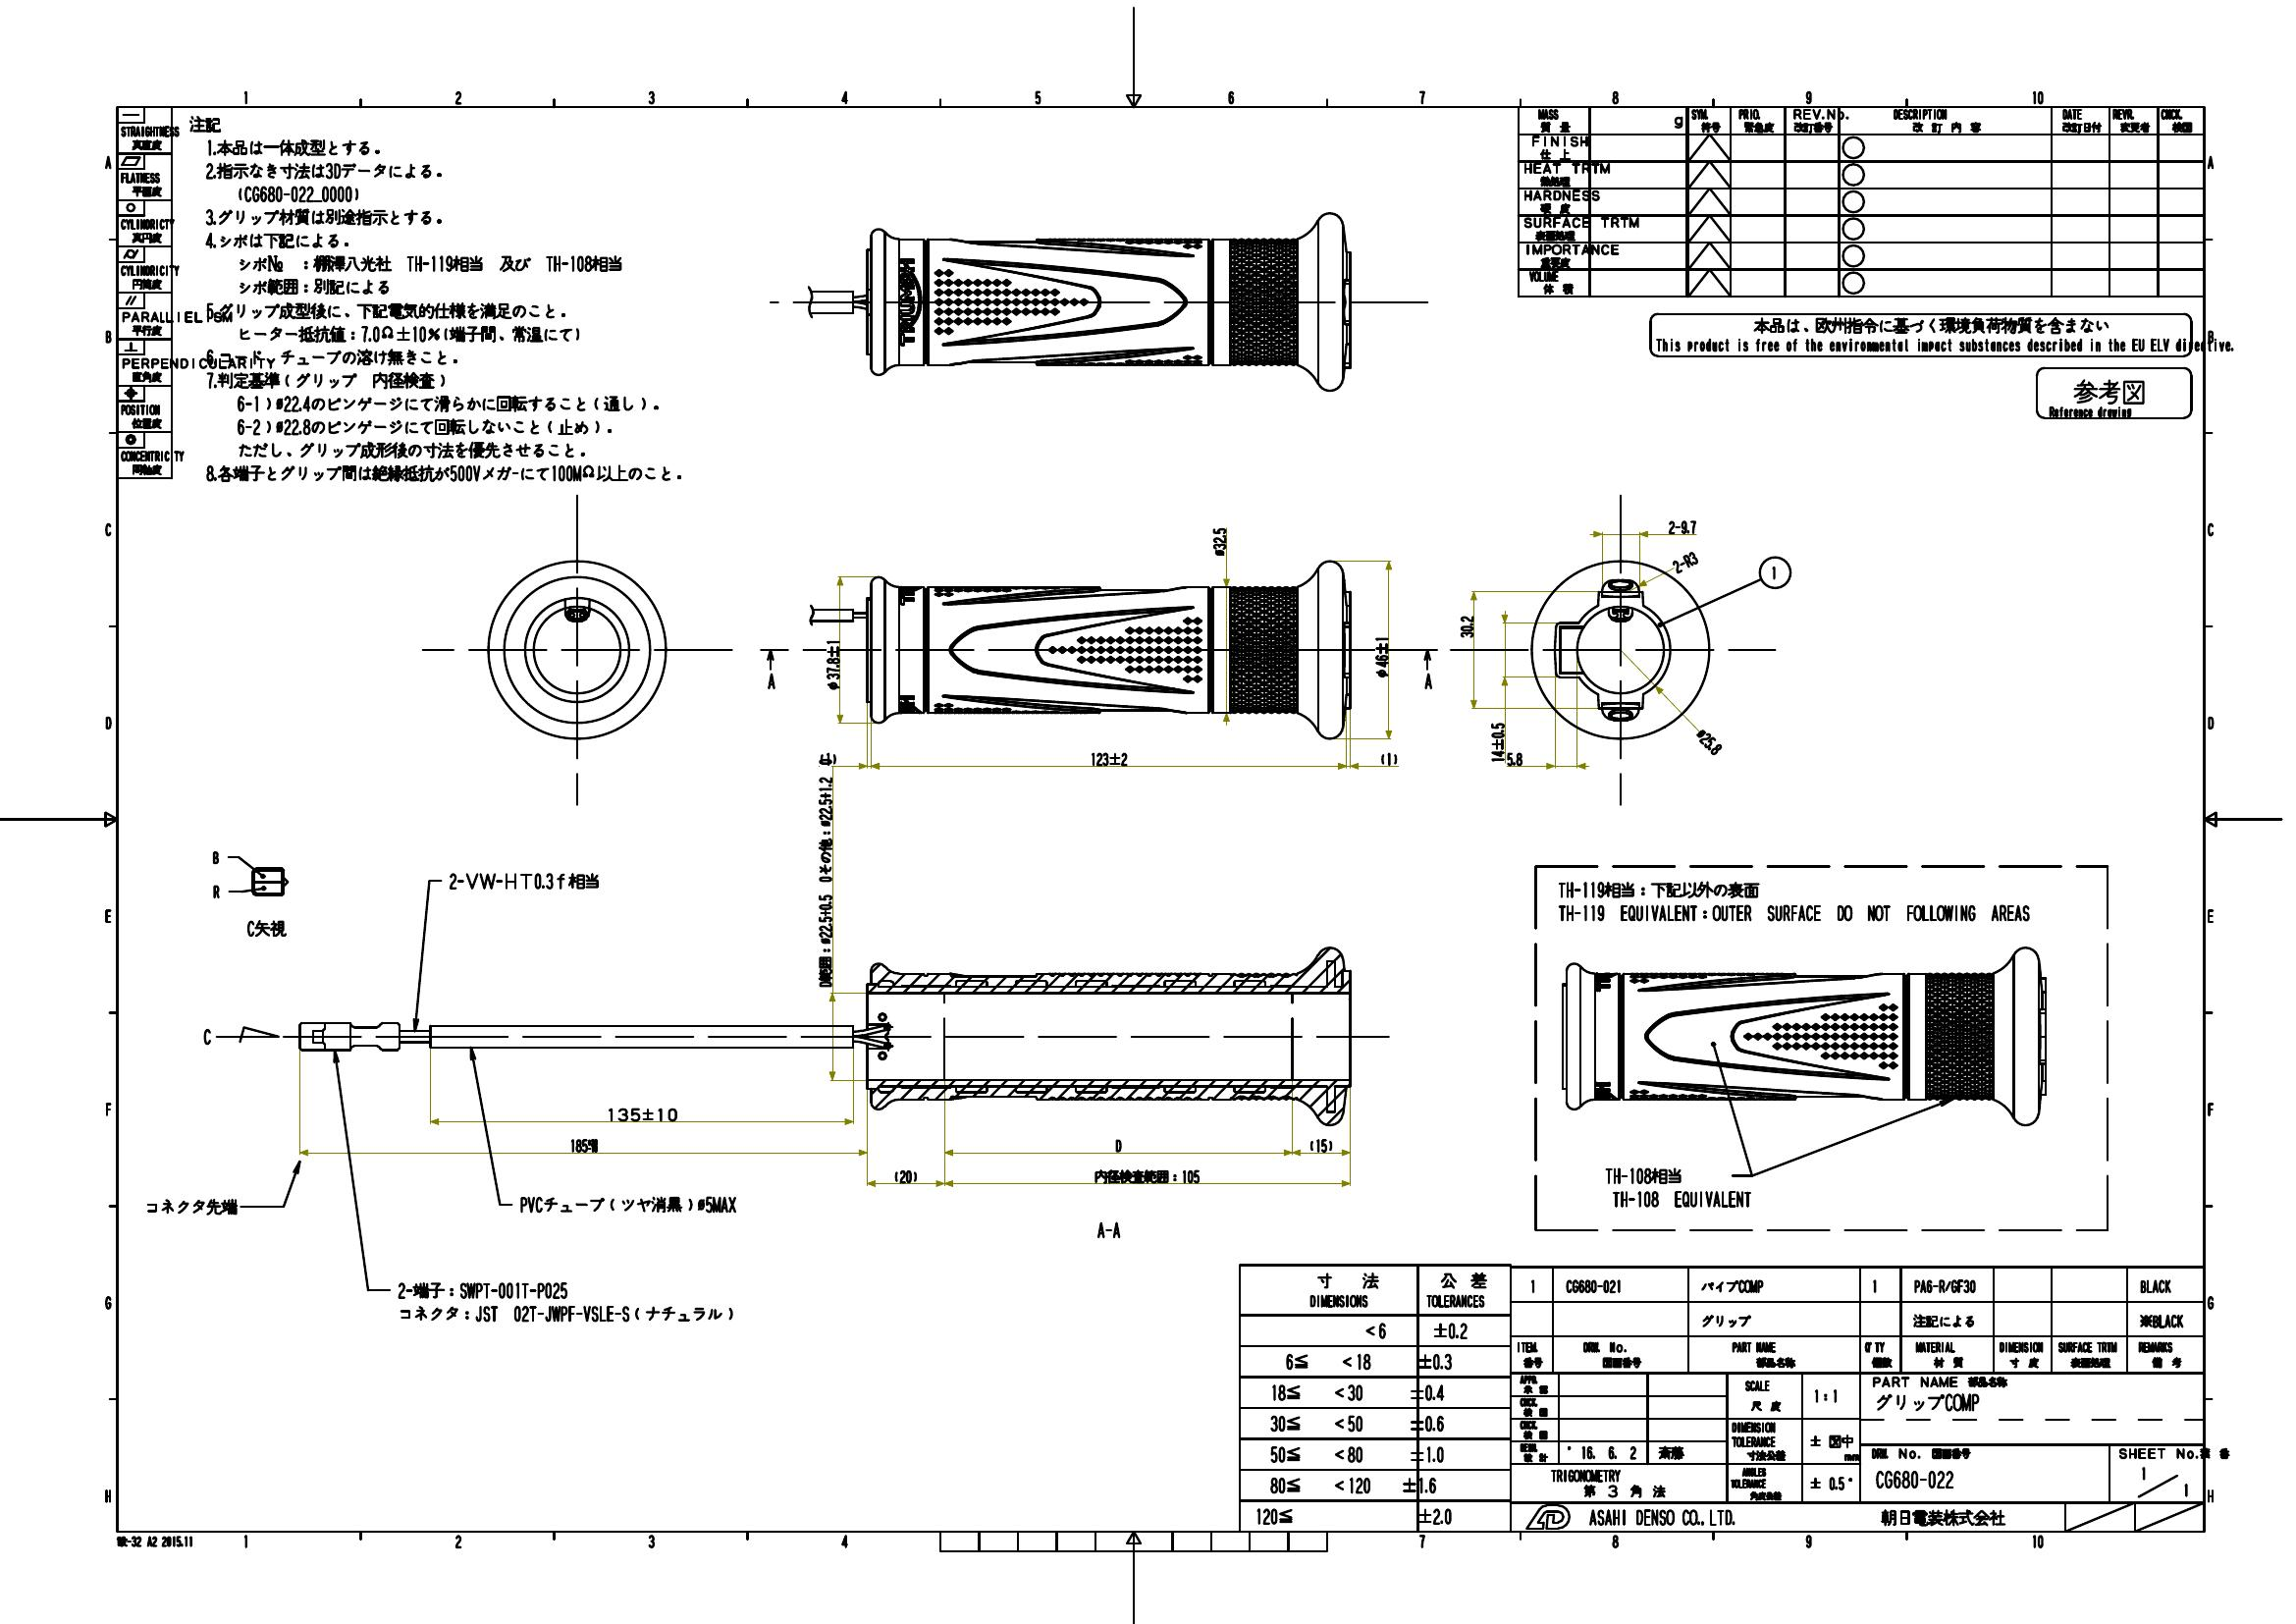anntotation_text: (186, 114, 687, 483), (1648, 311, 2233, 359), (1556, 903, 2034, 923), (399, 1301, 740, 1327), (2034, 366, 2194, 420), (515, 1192, 738, 1216), (1555, 875, 1762, 900), (395, 1280, 571, 1299), (446, 872, 601, 893), (1609, 1188, 1751, 1211), (142, 1195, 239, 1218), (1091, 1167, 1203, 1185), (1602, 1165, 1685, 1185), (1757, 555, 1792, 591), (246, 917, 288, 939), (1093, 1218, 1124, 1241), (764, 671, 780, 691), (199, 1026, 213, 1048), (211, 882, 221, 902), (1421, 671, 1432, 689), (1114, 1135, 1124, 1153), (211, 851, 220, 865)
dimension_text: (817, 759, 833, 990), (606, 1106, 678, 1123), (824, 638, 841, 691), (1488, 719, 1505, 763), (1372, 636, 1390, 678), (1665, 517, 1699, 536), (1089, 752, 1130, 766), (1693, 733, 1725, 750), (1210, 524, 1226, 557), (567, 1137, 597, 1153), (892, 1167, 919, 1185), (1671, 554, 1699, 569), (1458, 613, 1474, 640), (1309, 1137, 1333, 1153), (1379, 750, 1398, 766), (1505, 750, 1523, 766), (817, 750, 836, 765)
object: (297, 944, 1353, 1127), (808, 557, 1353, 740), (806, 211, 1353, 392), (483, 557, 669, 742), (1528, 559, 1711, 740), (248, 866, 293, 896)
title_block: (1237, 1262, 2208, 1534), (1516, 104, 2206, 299), (114, 104, 172, 480)
